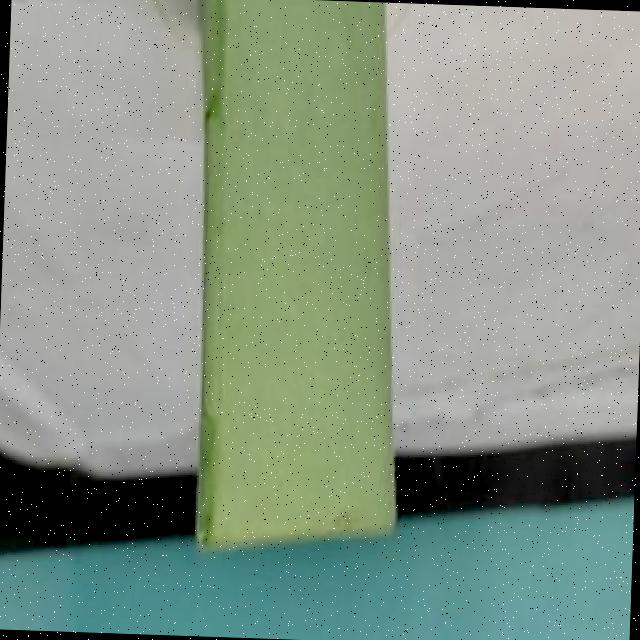greenbox: (185, 0, 414, 557)
